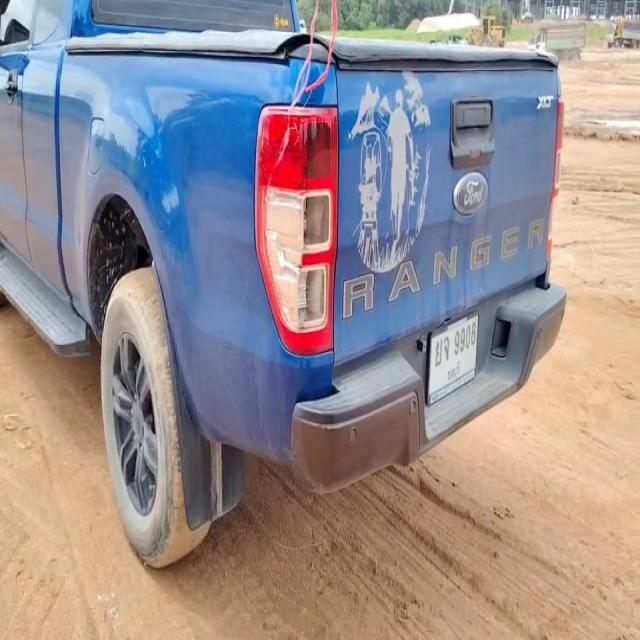Digit: (453, 320, 476, 359)
Licenseplate: (427, 311, 480, 408)
Provincename: (445, 362, 465, 384)
Thaichar: (434, 332, 450, 366)
